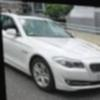License_Plate: (95, 72, 100, 81)
